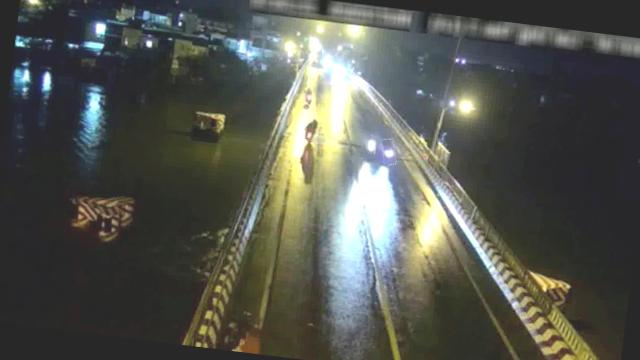Bike: (379, 137, 396, 165), (304, 114, 320, 142), (302, 86, 314, 106), (365, 136, 376, 156)
